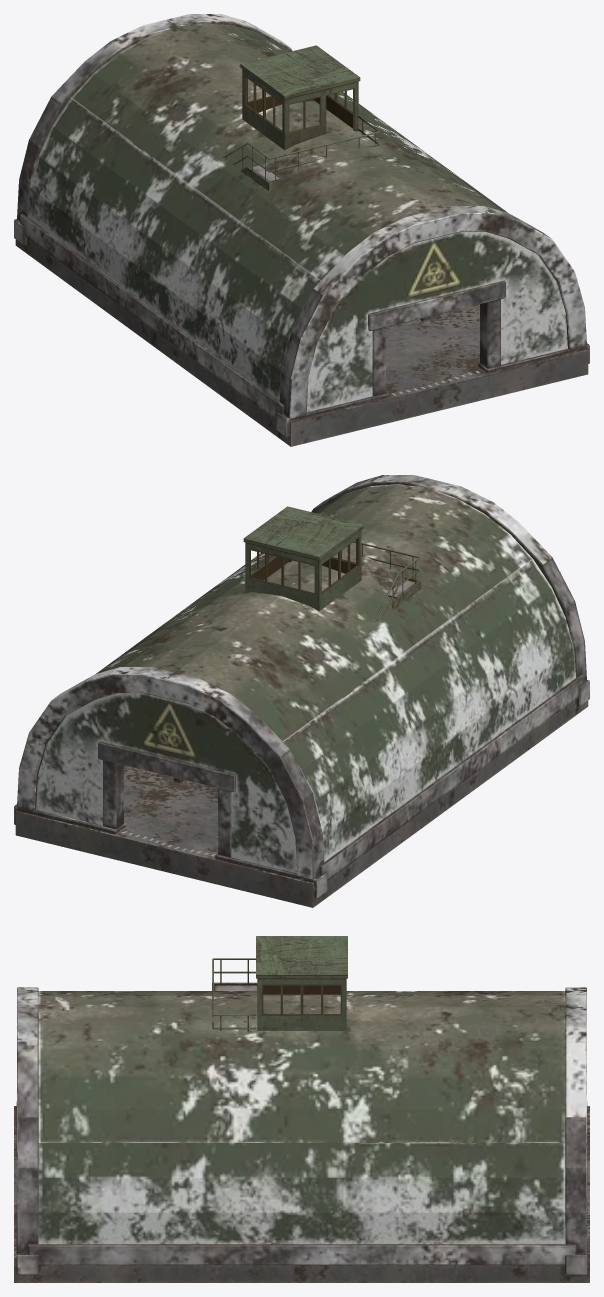
Rendered from fort.glb.
3 renders of one model, top to bottom at view 1: azimuth 30°, elevation 25°; view 2: azimuth 150°, elevation 25°; view 3: azimuth 270°, elevation 25°, orthographic. The views are drawn at different scales.
Visible parts, largest first — view 1: hangar, tower; view 2: hangar, tower; view 3: hangar, tower.
Part boxes in pixels (<box>): hangar: <box>14,14,589,446</box>; tower: <box>223,45,379,191</box>; hangar: <box>14,475,589,907</box>; tower: <box>243,506,421,623</box>; hangar: <box>14,987,589,1282</box>; tower: <box>212,936,347,1030</box>.
Bounding box in the file's own units: 15.94 × 12 × 25.
Materials: 22 (21 with a texture image).
